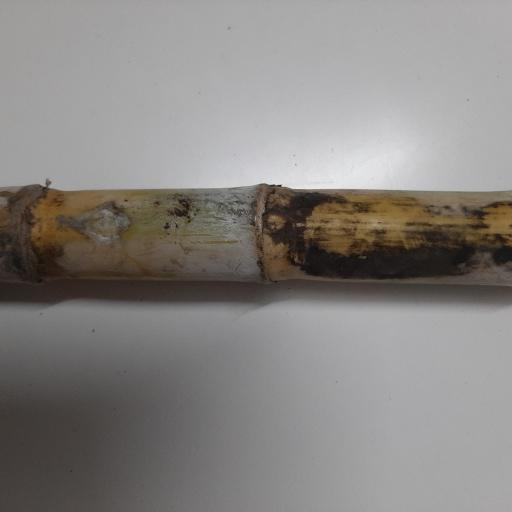Bud: (260, 208, 290, 236)
